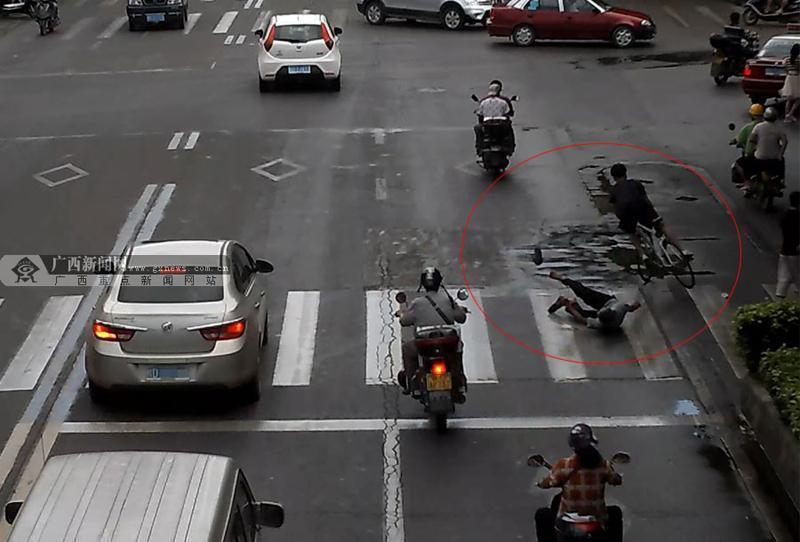Fall-Detected: (541, 263, 644, 337)
